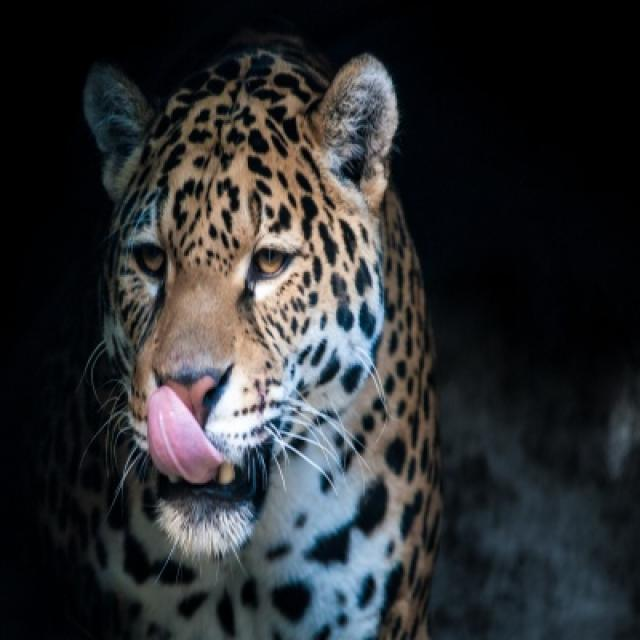not_pig: (22, 31, 446, 638)
